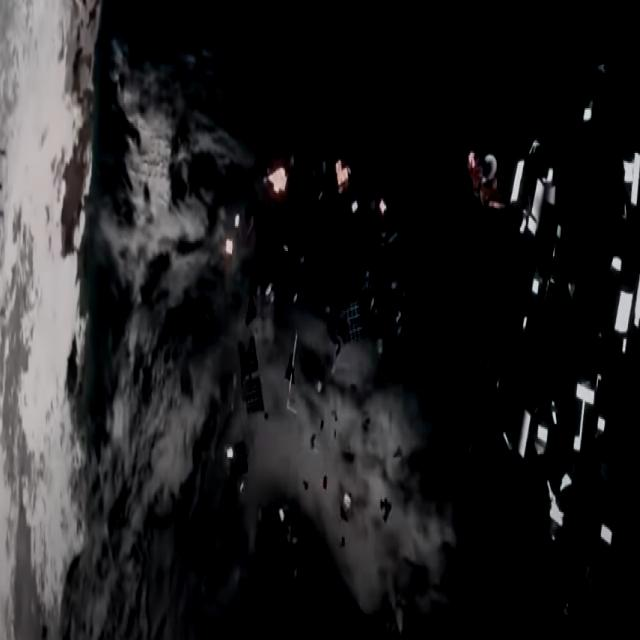large_debris: (550, 369, 602, 536), (510, 130, 556, 258), (524, 230, 576, 332), (510, 392, 556, 474), (232, 320, 260, 438), (461, 154, 504, 229), (284, 314, 312, 426), (325, 149, 353, 235), (616, 276, 640, 374), (613, 137, 640, 223), (341, 279, 365, 371), (261, 144, 290, 220), (369, 482, 396, 554), (284, 498, 300, 617), (223, 429, 247, 505), (365, 183, 391, 253), (389, 276, 409, 342), (336, 477, 355, 540), (597, 508, 617, 556)
